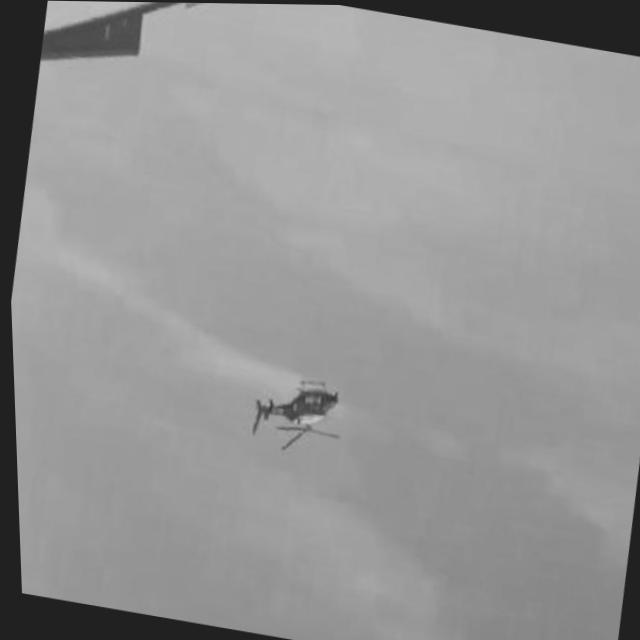helikopter: (240, 362, 349, 458)
